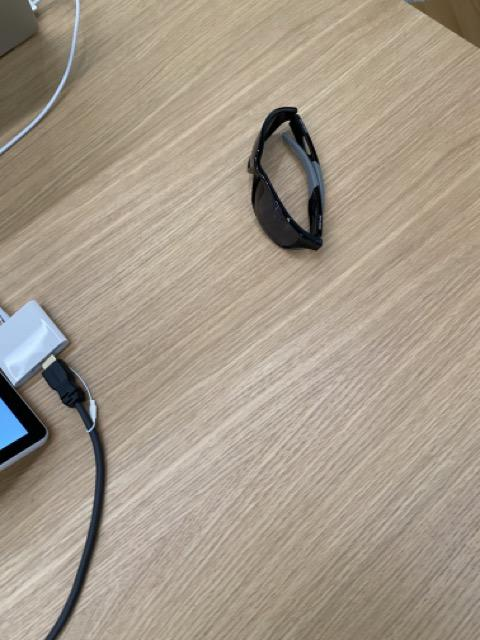Sunglasses: (247, 106, 328, 252)
